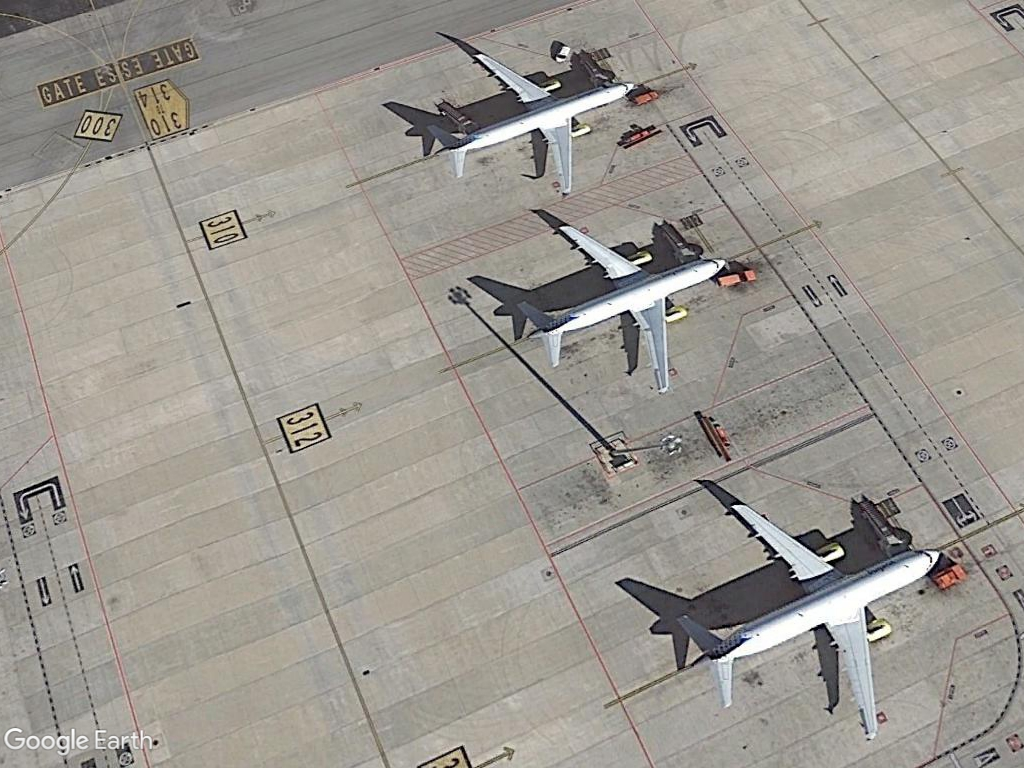airliner: (656, 500, 943, 741), (507, 222, 729, 396), (422, 51, 637, 201)
